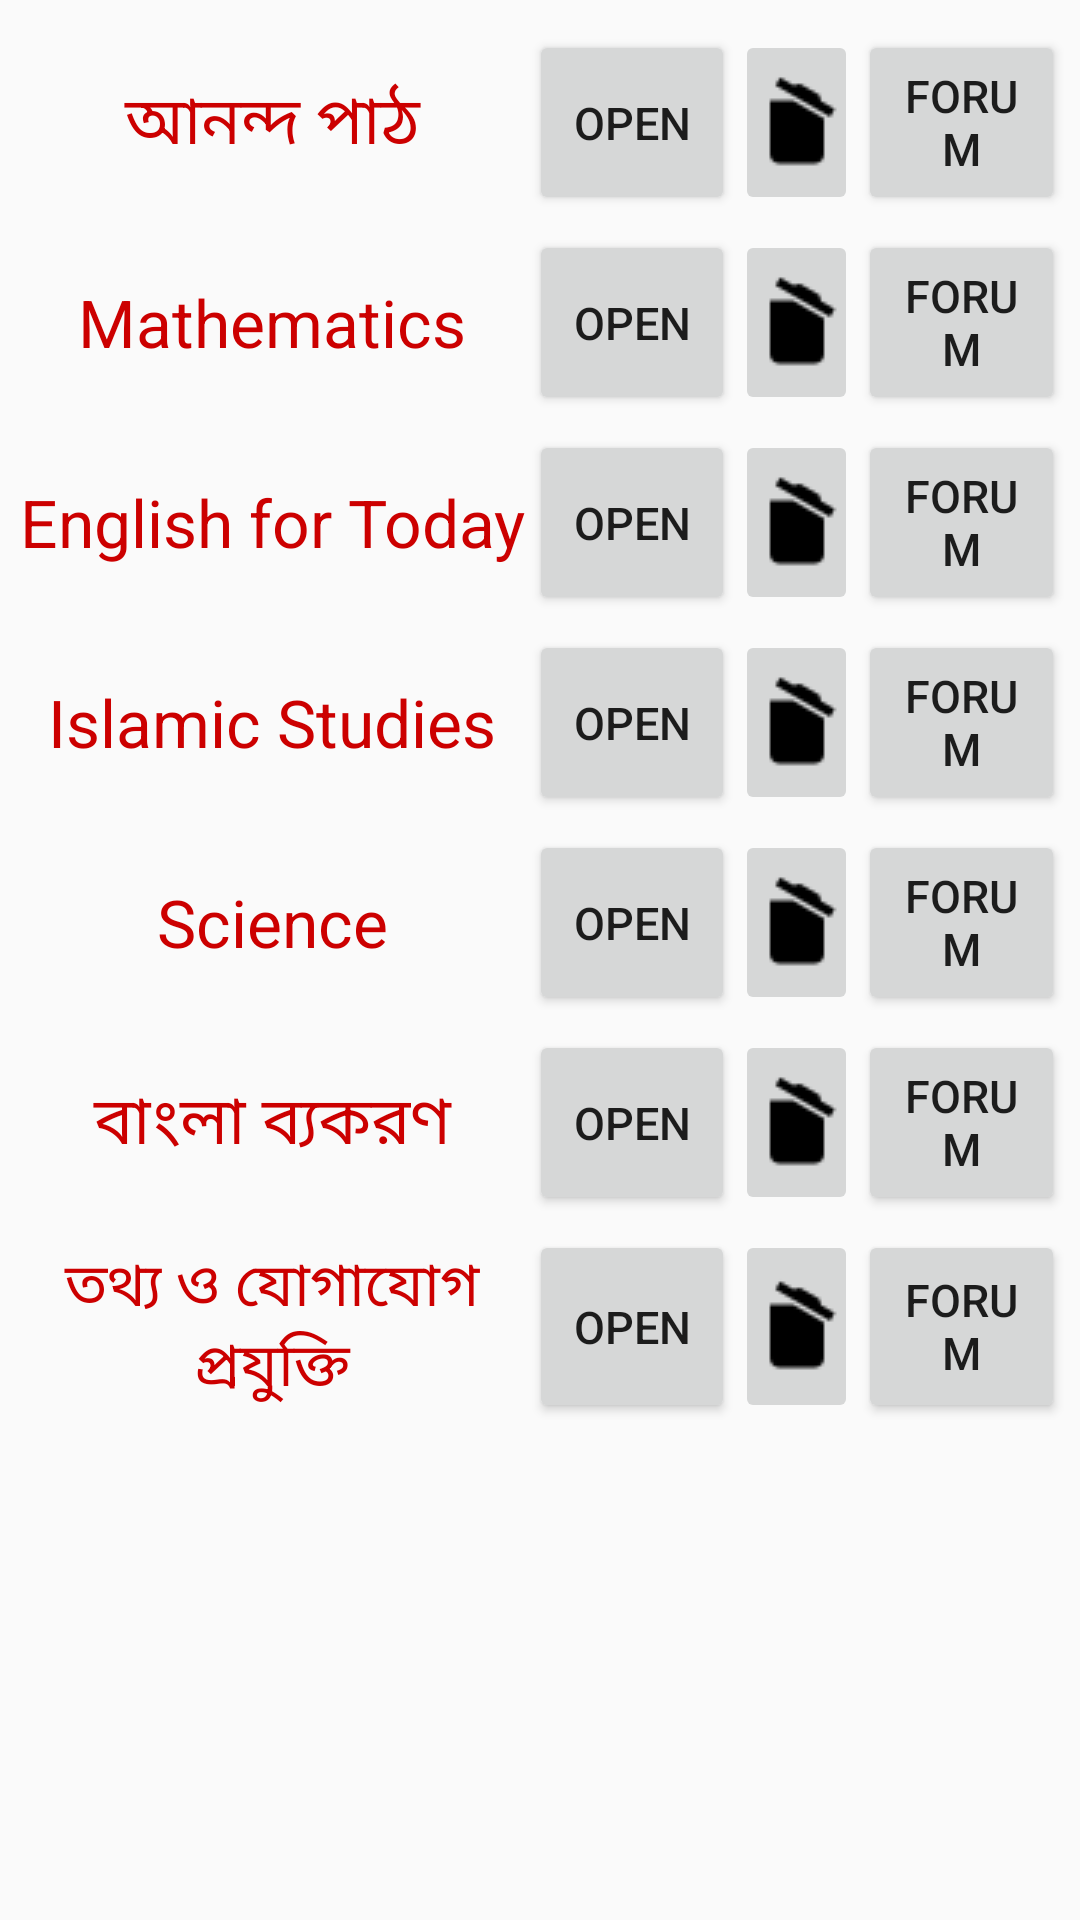

Named icons in this screenshot (1080x1920) and their centers, point (x, y):
delete: point (796, 122), point (796, 322), point (796, 522), point (796, 722), point (796, 922), point (796, 1122), point (796, 1326)
